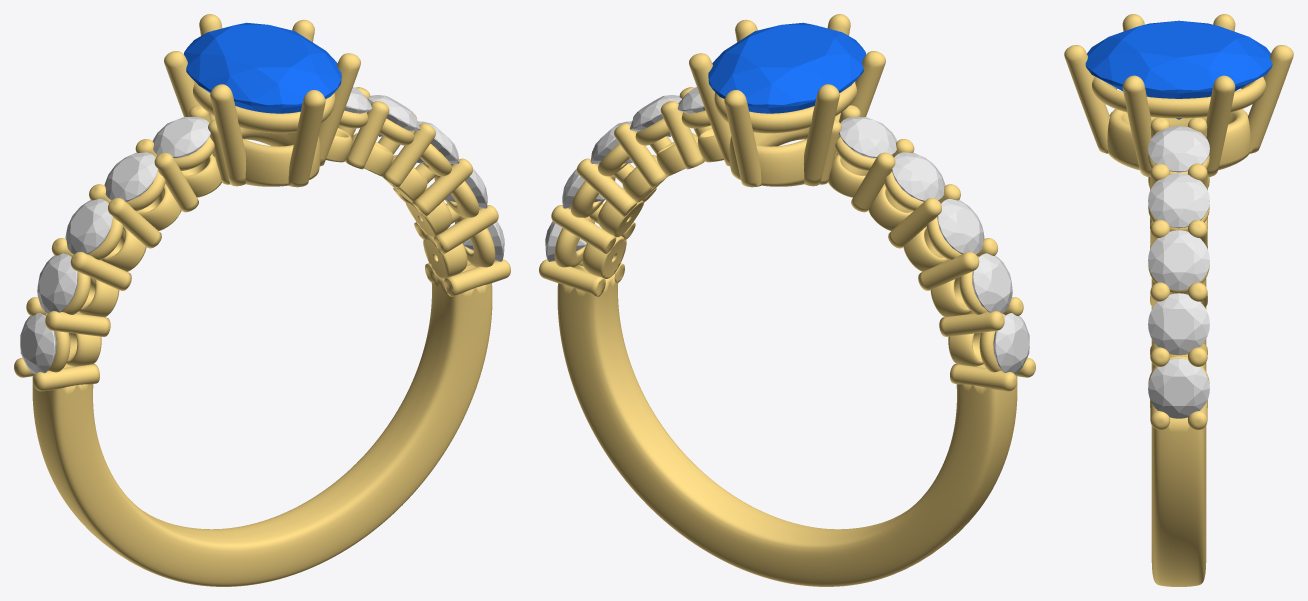
File: bluesapphire-oval-yellowgold-6prong-straightband-11stone.glb
The picture shows the model from 3 angles, left to right: view 1: azimuth 30°, elevation 25°; view 2: azimuth 150°, elevation 25°; view 3: azimuth 270°, elevation 25°; orthographic projection.
Parts seen in each view (by area): view 1: metal, stone.001, side.012, side.013, side.011, side.014, side.010, side.018; view 2: metal, stone.001, side.012, side.013, side.011, side.014, side.010, side.018; view 3: metal, stone.001, side.016, side.017, side.015, side.018, side.019.
Part boxes in pixels (x1,y1,x2,y2): metal: (14, 14, 510, 586); stone.001: (184, 22, 341, 113); side.012: (65, 198, 112, 254); side.013: (104, 152, 158, 201); side.011: (37, 253, 77, 313); side.014: (152, 117, 210, 158); side.010: (20, 313, 56, 374); side.018: (368, 95, 420, 136); metal: (539, 14, 1035, 586); stone.001: (708, 22, 865, 113); side.012: (937, 198, 984, 254); side.013: (891, 152, 945, 201); side.011: (972, 253, 1012, 313); side.014: (839, 117, 897, 158); side.010: (993, 313, 1029, 374); side.018: (629, 95, 681, 136); metal: (1064, 14, 1293, 586); stone.001: (1085, 20, 1272, 119); side.016: (1148, 293, 1209, 354); side.017: (1148, 230, 1209, 290); side.015: (1148, 358, 1209, 418); side.018: (1148, 173, 1209, 228); side.019: (1148, 126, 1209, 172).
Bounding box in the file's own units: 21.96 × 23.4 × 9.29.
